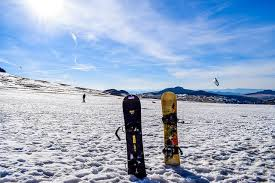snowboard: (124, 94, 148, 179), (160, 90, 181, 165)
